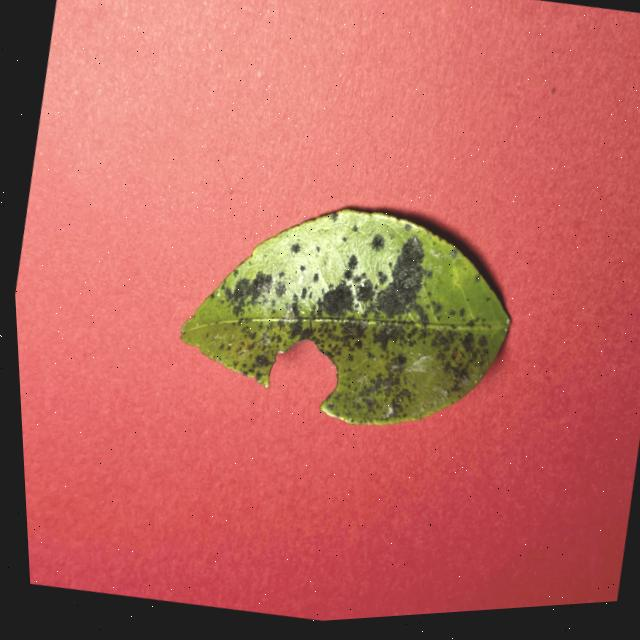sooty_mold: (180, 210, 508, 425)
